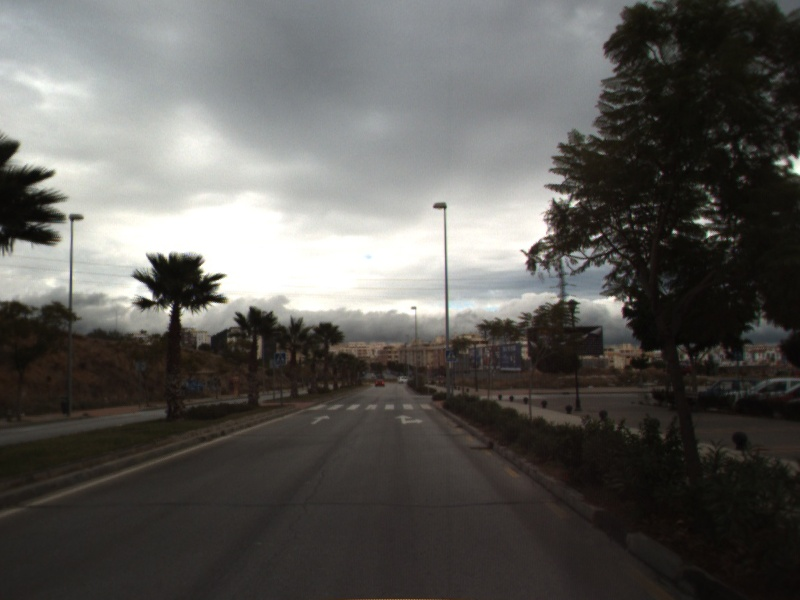STRAIGHT: (309, 413, 332, 426)
STRAIGHT_RIGHT: (393, 412, 425, 426)
